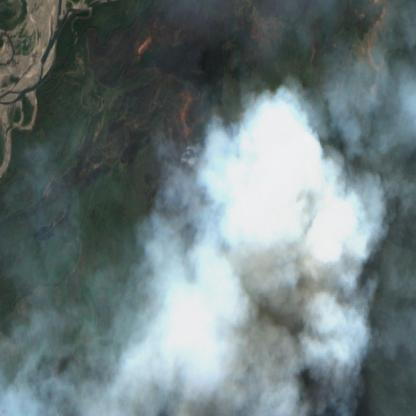fire: (161, 122, 311, 285)
